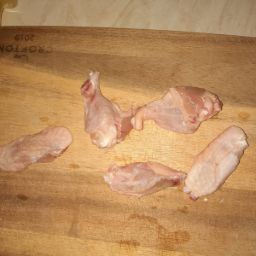Chicken: (64, 58, 134, 158), (128, 78, 228, 144), (188, 116, 249, 210), (99, 149, 190, 204), (1, 123, 77, 185)
